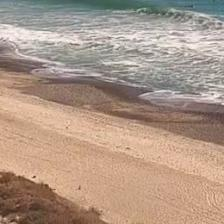surfer: (183, 4, 194, 8)
